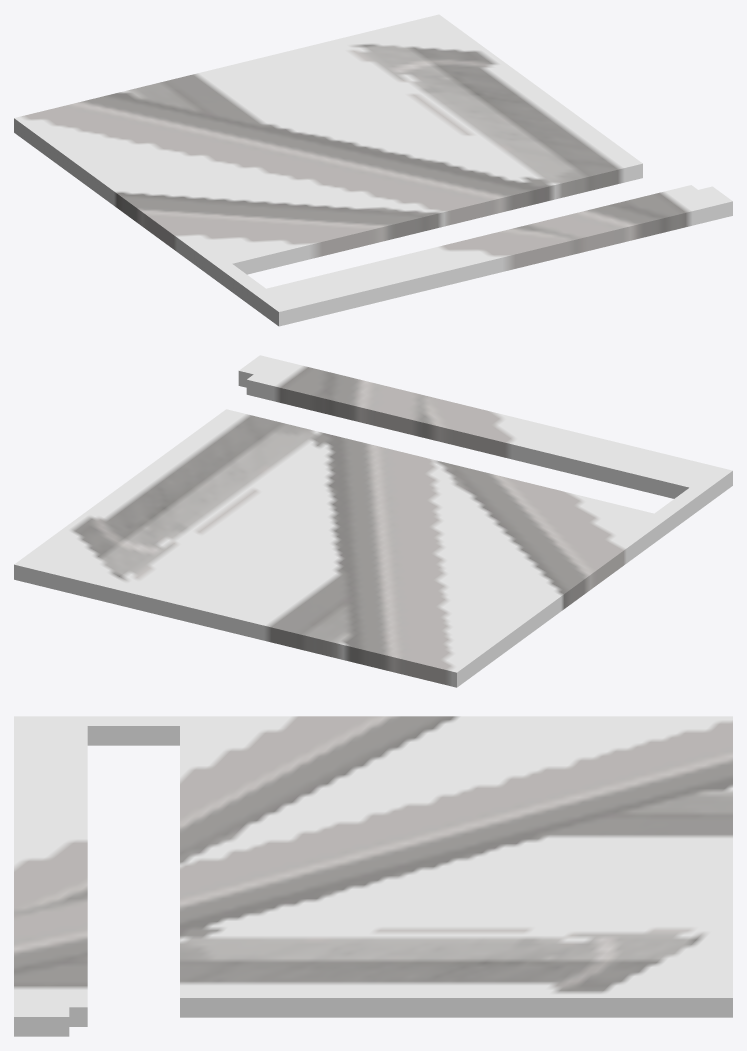
File: rail.obj
3 views of the same model, one above another, from view 1: azimuth 30°, elevation 25°; view 2: azimuth 150°, elevation 25°; view 3: azimuth 270°, elevation 25° (orthographic). The views are drawn at different scales.
Size of the model in its own units: 0.9844 by 0.03 by 0.9951.
